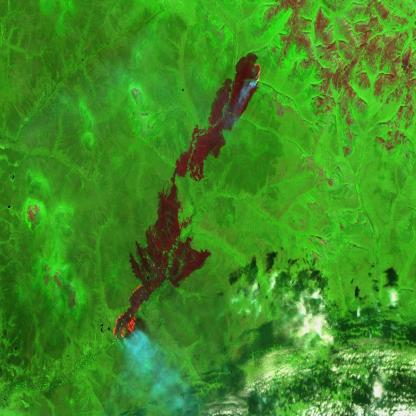fire: (111, 281, 146, 344), (249, 60, 266, 93)
